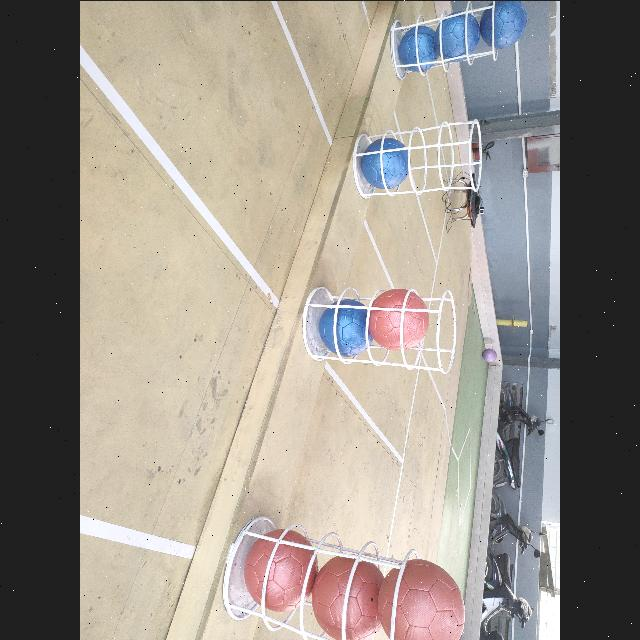B: (323, 294, 373, 358), (360, 137, 412, 191), (478, 0, 526, 48), (435, 12, 479, 64), (399, 28, 439, 70)
R: (379, 554, 466, 640), (312, 544, 382, 640), (242, 530, 316, 608), (372, 288, 428, 352)
